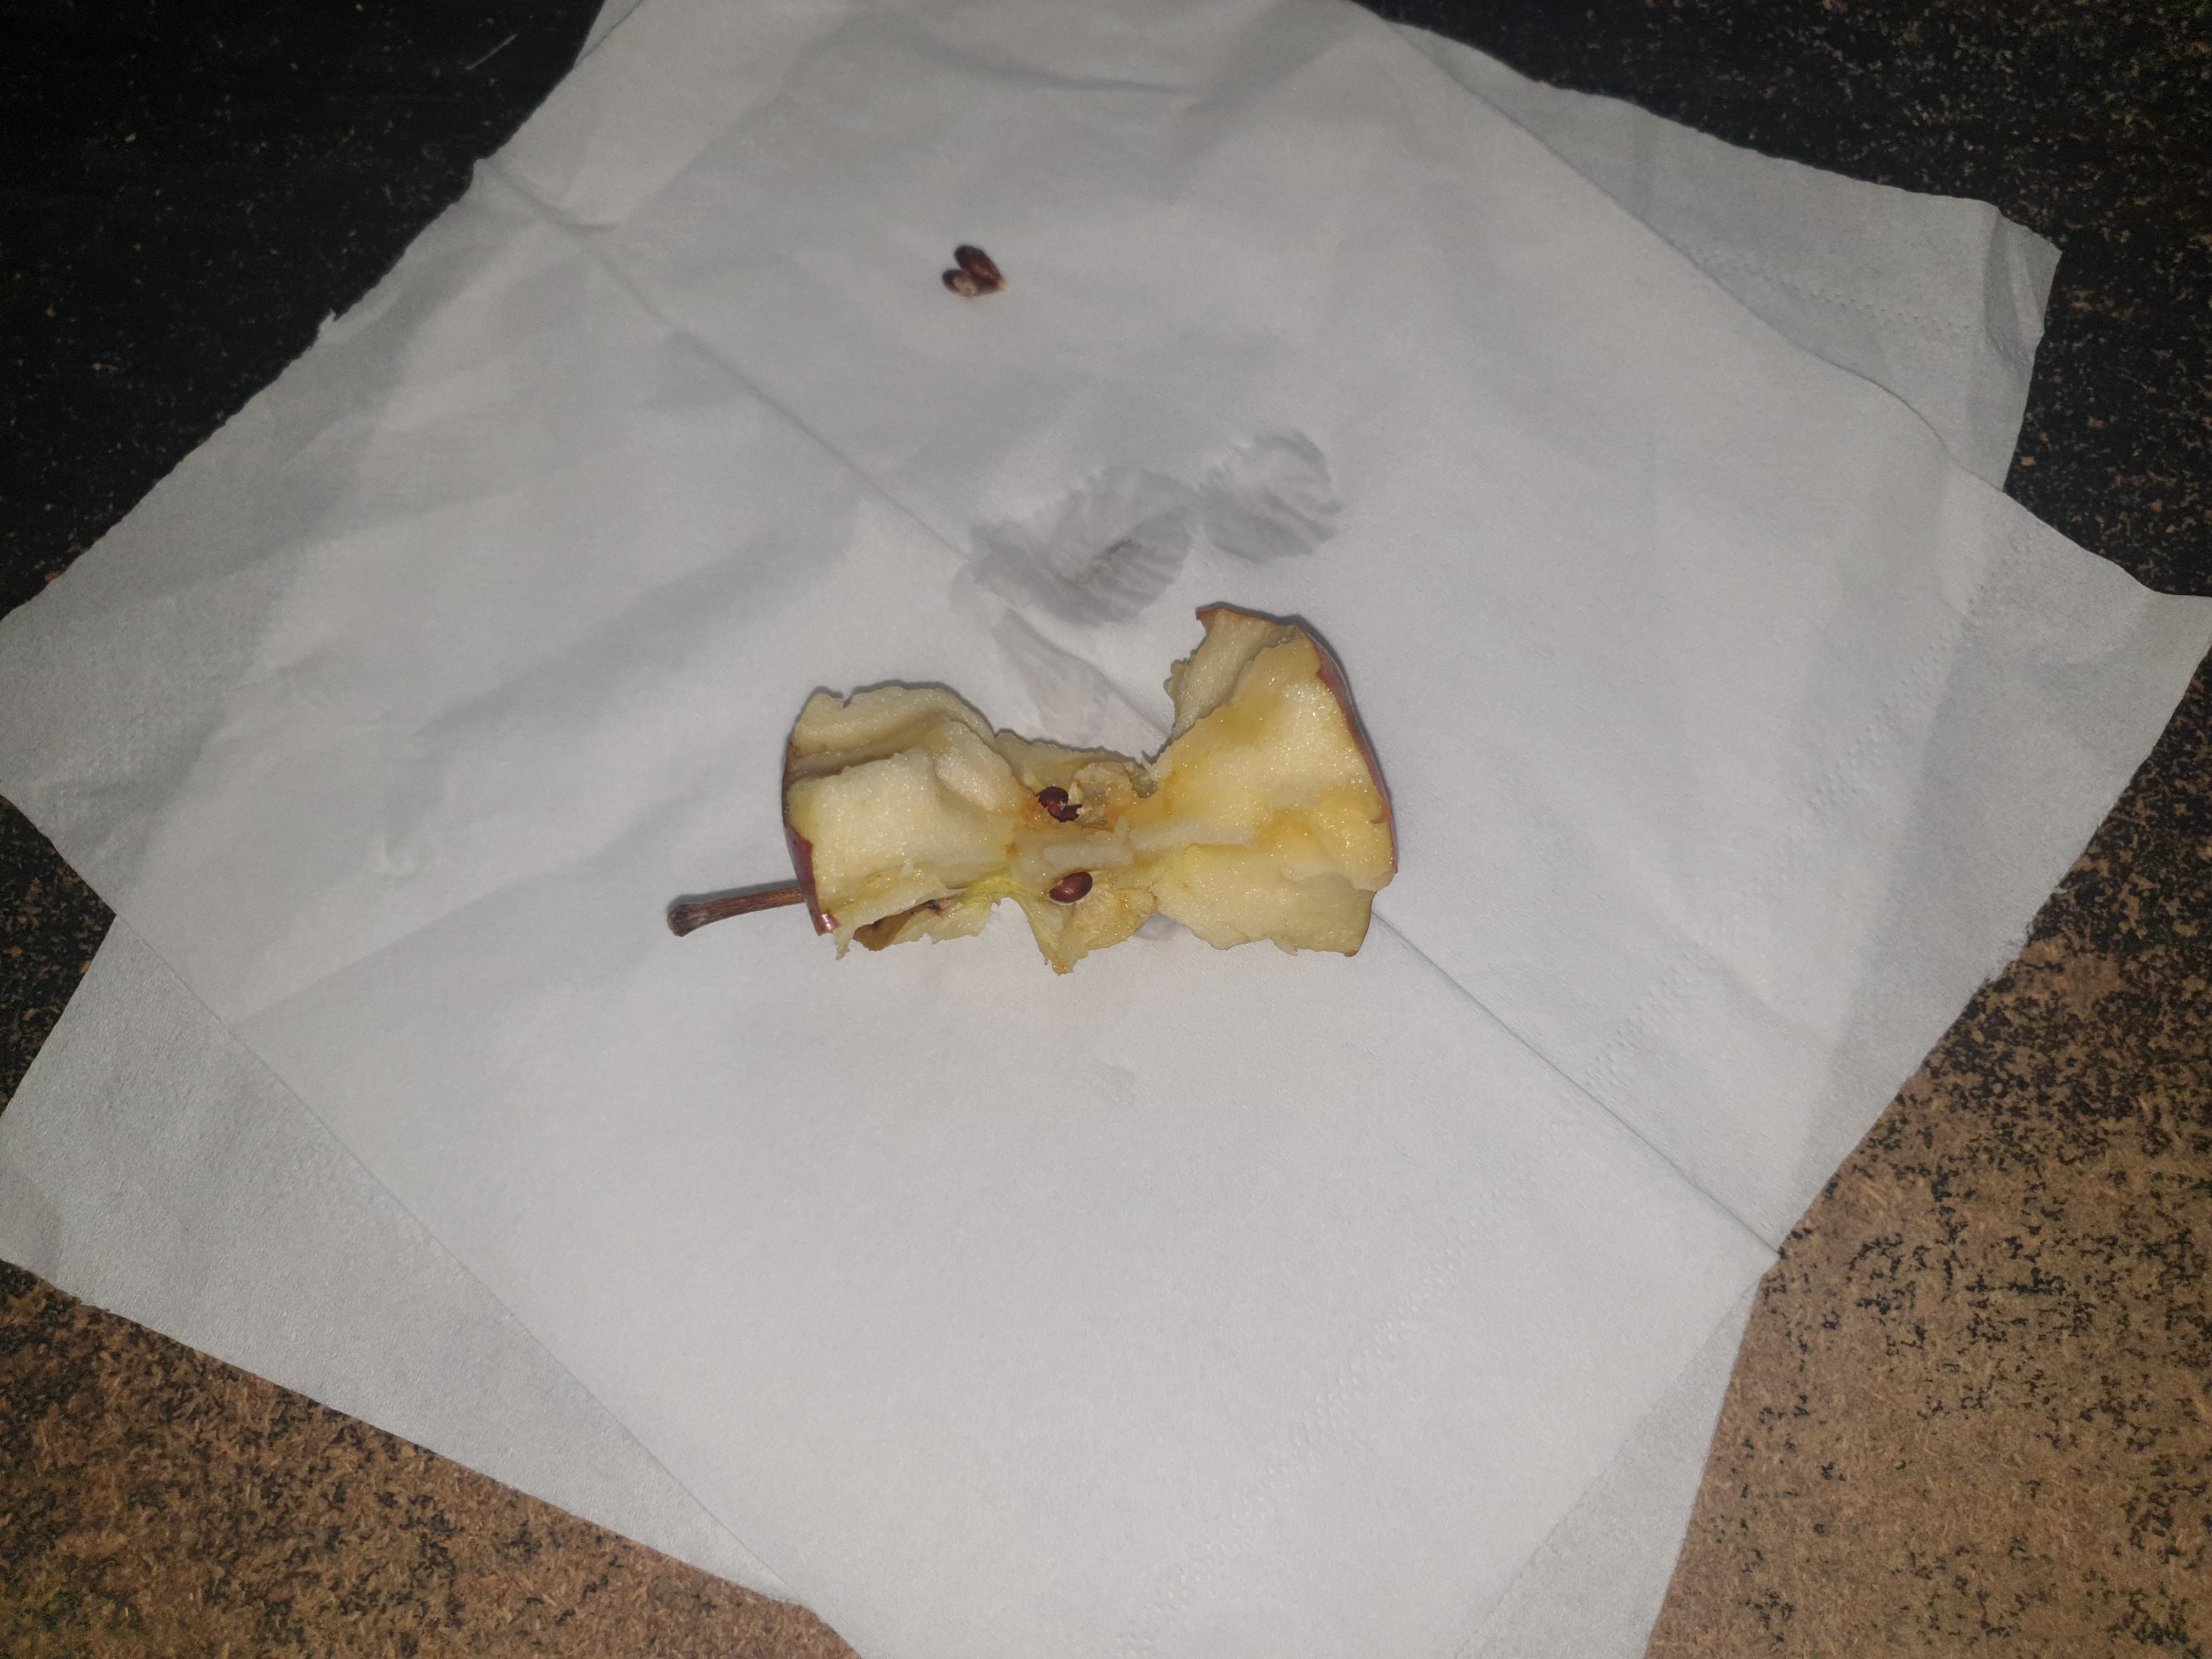Apple: (763, 483, 1430, 1068)
